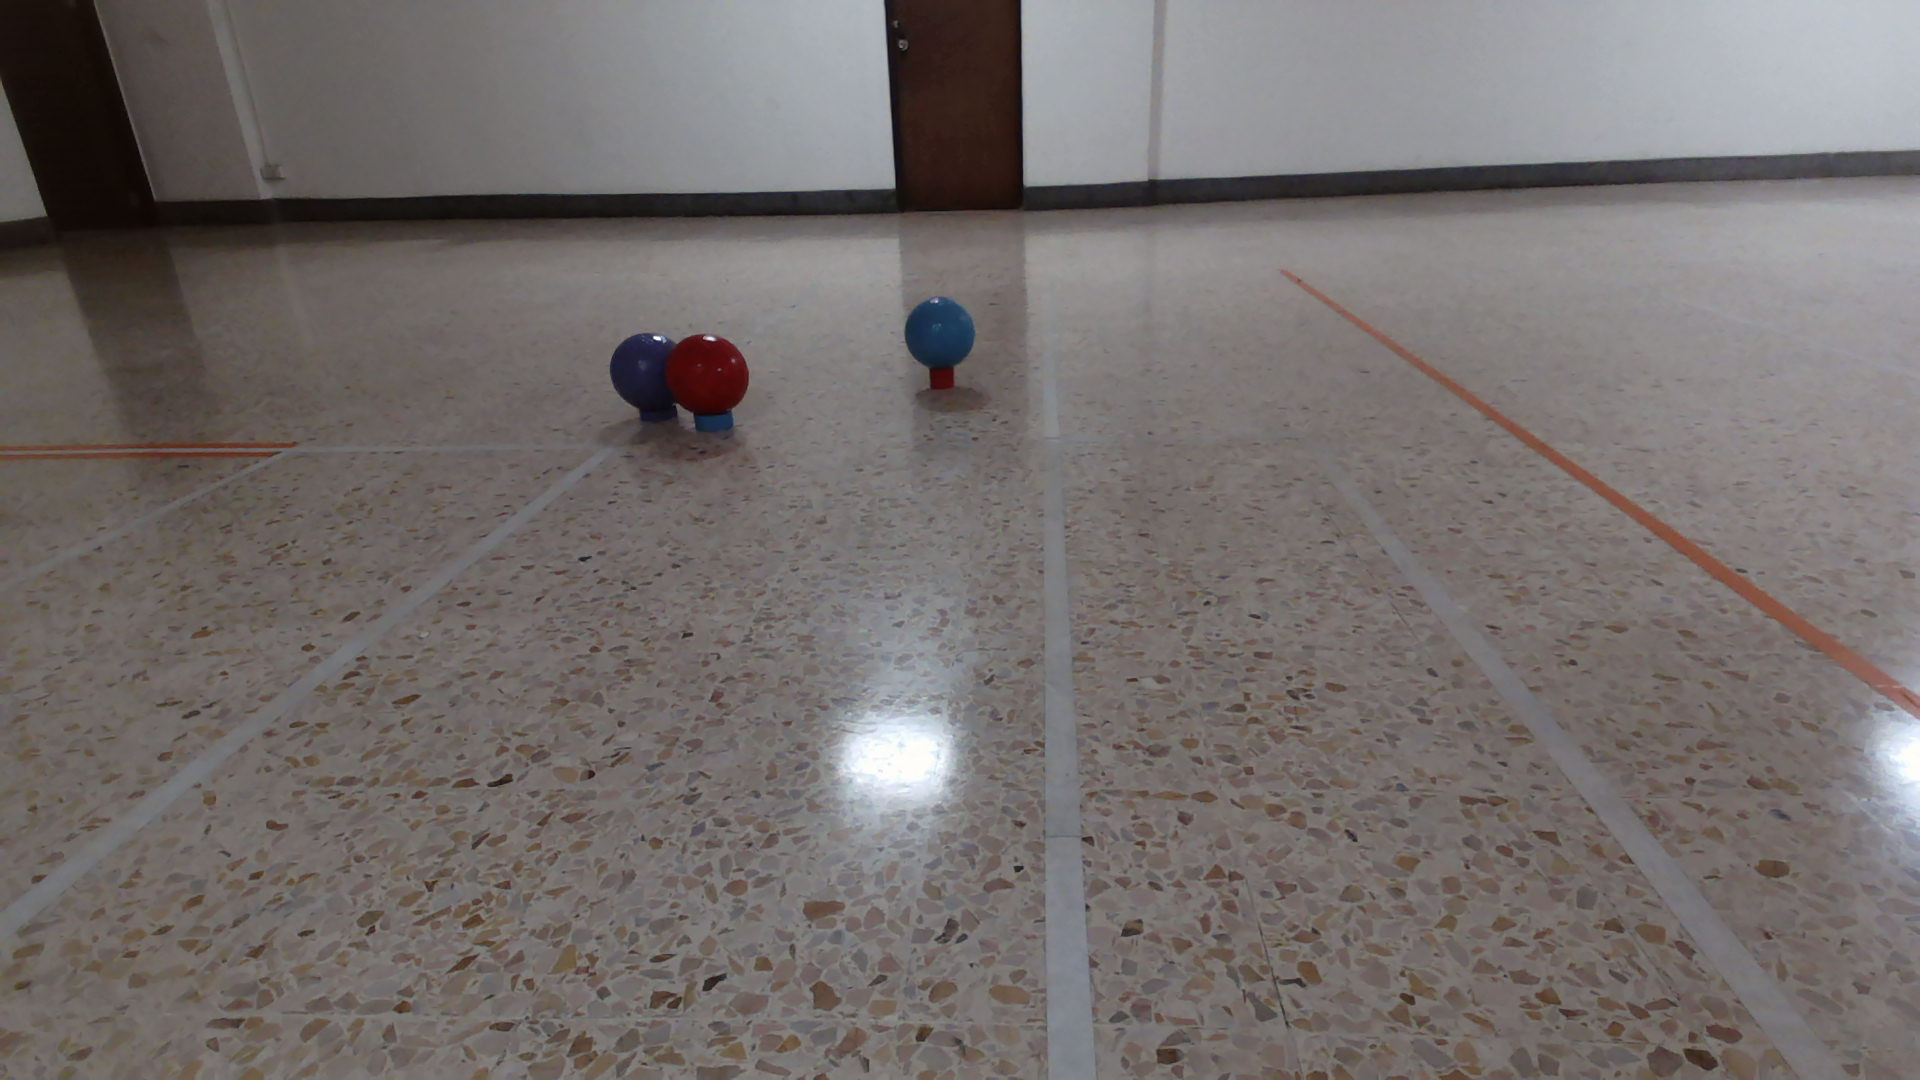Blue ball: (903, 295, 975, 371)
Purple ball: (608, 330, 676, 409)
Red ball: (665, 332, 752, 415)
